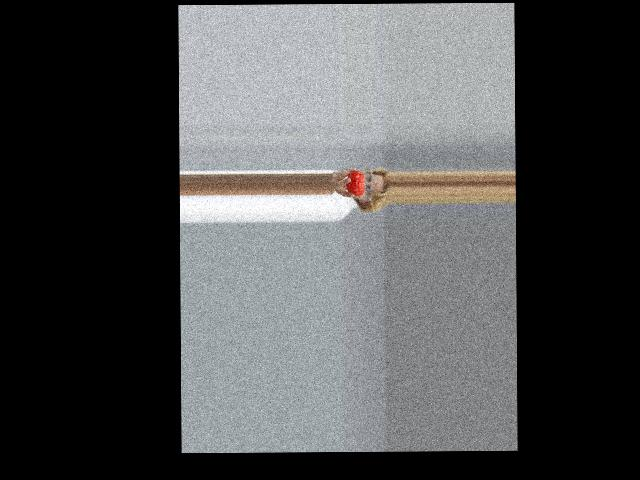tomato: (346, 171, 363, 196)
